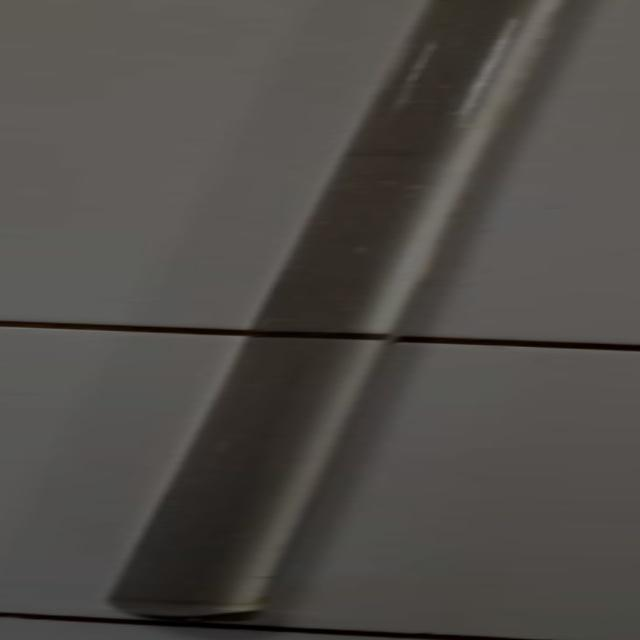Stirrer: (100, 0, 620, 636)
